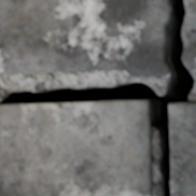brick: (0, 102, 150, 195), (170, 104, 195, 195)
broken_brick: (0, 0, 170, 78), (184, 0, 195, 78)
crack: (0, 0, 194, 195)
